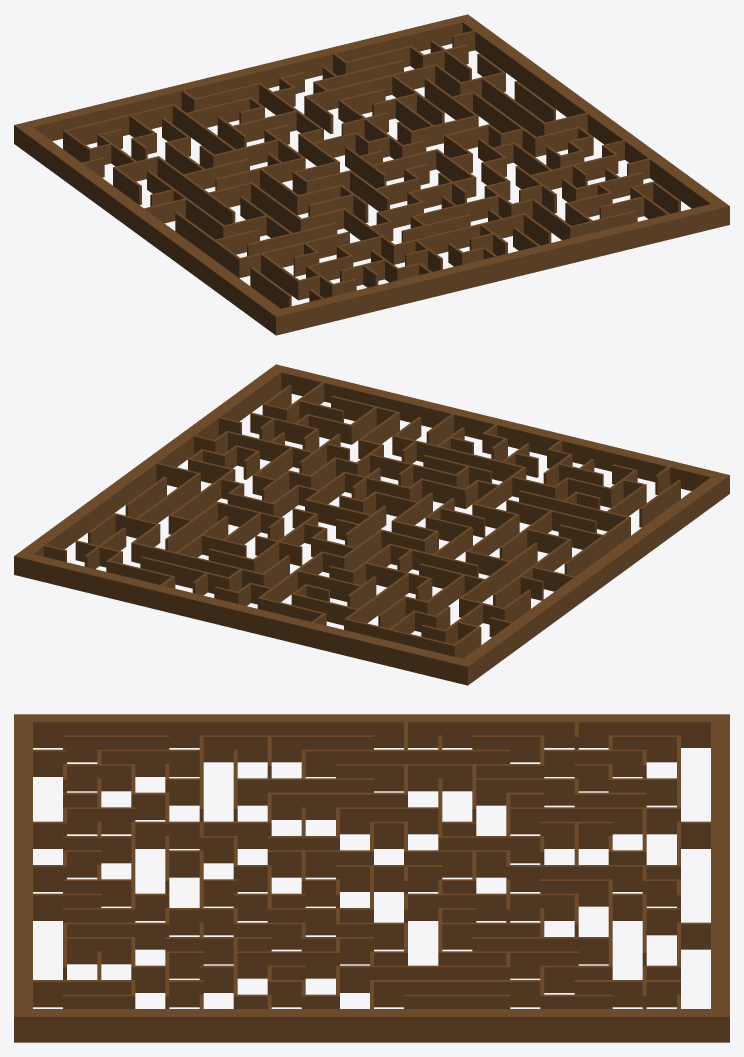
File: maze.dae
3 views of the same model, one above another, from view 1: azimuth 30°, elevation 25°; view 2: azimuth 150°, elevation 25°; view 3: azimuth 270°, elevation 25° (orthographic). The views are drawn at different scales.
Parts seen in each view (by area): view 1: Plane; view 2: Plane; view 3: Plane.
Boxes of the visible parts, x1,y1,x2,y2 form: Plane: (14, 14, 729, 335); Plane: (14, 364, 729, 685); Plane: (14, 714, 729, 1042).
Bounding box in the file's own units: 10 × 10 × 0.3938.
